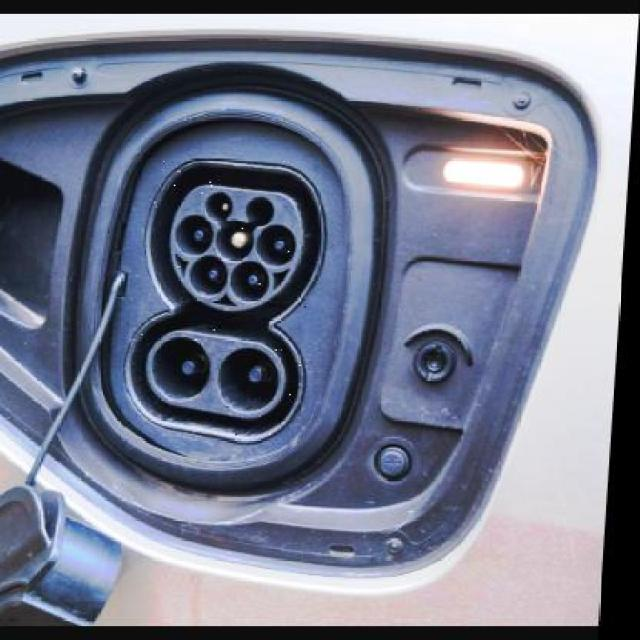CCS2: (108, 147, 346, 472)
